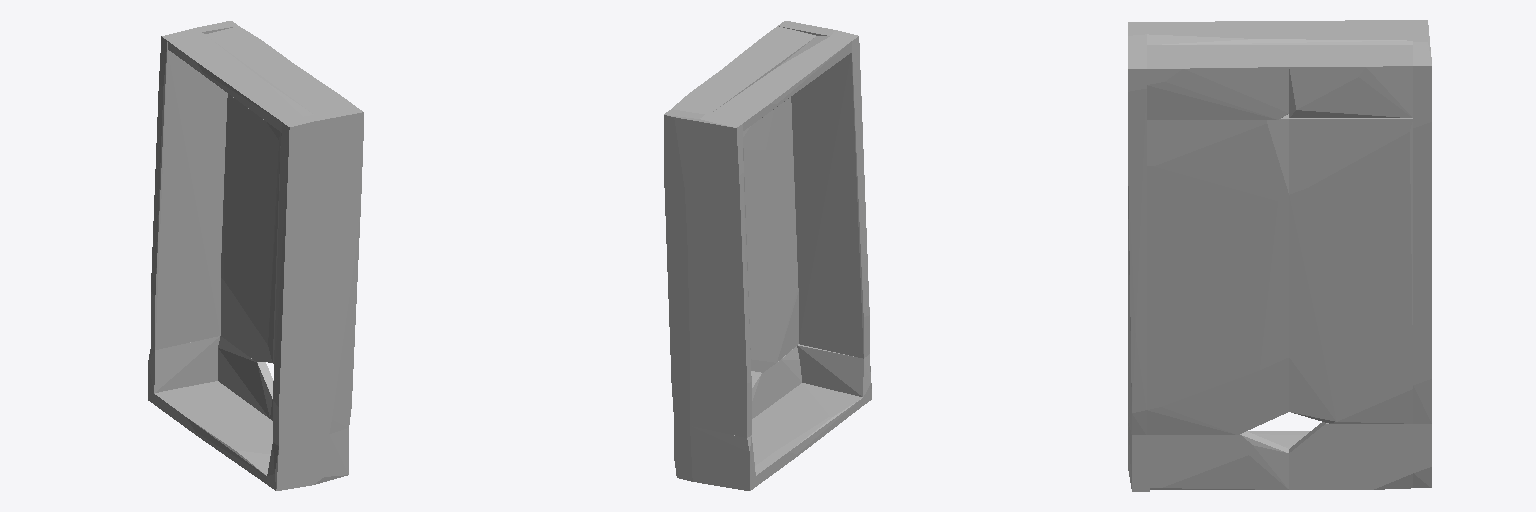
The robot description file, URDF, robot "root":
<robot name="root">
  <link name="link_thingiverse~box_with_crescent_hole_426326_convex_piece_0">
    <inertial>
      <origin rpy="0 0 0" xyz="0 0 0"/>
      <mass value="4.60E-03"/>
      <inertia ixx="2.26E-05" ixy="1.14E-06" ixz="1.92E-06" iyy="1.71E-05" iyz="9.87E-06" izz="6.35E-06"/>
    </inertial>
    <visual>
      <origin rpy="0 0 0" xyz="0 0 0"/>
      <geometry>
        <mesh filename="thingiverse~box_with_crescent_hole_426326_convex_piece_0.obj" scale="1.0000E+00 1.0000E+00 1.0000E+00"/>
      </geometry>
      <material name="">
        <color rgba="7.50E-01 7.50E-01 7.50E-01 1"/>
      </material>
    </visual>
    <collision>
      <origin rpy="0 0 0" xyz="0 0 0"/>
      <geometry>
        <mesh filename="thingiverse~box_with_crescent_hole_426326_convex_piece_0.obj" scale="1.0000E+00 1.0000E+00 1.0000E+00"/>
      </geometry>
    </collision>
  </link>
  <link name="link_thingiverse~box_with_crescent_hole_426326_convex_piece_1">
    <inertial>
      <origin rpy="0 0 0" xyz="0 0 0"/>
      <mass value="2.74E-02"/>
      <inertia ixx="6.07E-05" ixy="4.39E-06" ixz="7.09E-07" iyy="2.68E-05" iyz="-1.40E-06" izz="3.81E-05"/>
    </inertial>
    <visual>
      <origin rpy="0 0 0" xyz="0 0 0"/>
      <geometry>
        <mesh filename="thingiverse~box_with_crescent_hole_426326_convex_piece_1.obj" scale="1.0000E+00 1.0000E+00 1.0000E+00"/>
      </geometry>
      <material name="">
        <color rgba="7.50E-01 7.50E-01 7.50E-01 1"/>
      </material>
    </visual>
    <collision>
      <origin rpy="0 0 0" xyz="0 0 0"/>
      <geometry>
        <mesh filename="thingiverse~box_with_crescent_hole_426326_convex_piece_1.obj" scale="1.0000E+00 1.0000E+00 1.0000E+00"/>
      </geometry>
    </collision>
  </link>
  <joint name="link_thingiverse~box_with_crescent_hole_426326_convex_piece_1_joint" type="fixed">
    <origin rpy="0 0 0" xyz="0 0 0"/>
    <parent link="link_thingiverse~box_with_crescent_hole_426326_convex_piece_0"/>
    <child link="link_thingiverse~box_with_crescent_hole_426326_convex_piece_1"/>
  </joint>
  <link name="link_thingiverse~box_with_crescent_hole_426326_convex_piece_2">
    <inertial>
      <origin rpy="0 0 0" xyz="0 0 0"/>
      <mass value="4.33E-03"/>
      <inertia ixx="2.05E-05" ixy="-1.12E-06" ixz="1.85E-06" iyy="1.54E-05" iyz="-9.02E-06" izz="5.95E-06"/>
    </inertial>
    <visual>
      <origin rpy="0 0 0" xyz="0 0 0"/>
      <geometry>
        <mesh filename="thingiverse~box_with_crescent_hole_426326_convex_piece_2.obj" scale="1.0000E+00 1.0000E+00 1.0000E+00"/>
      </geometry>
      <material name="">
        <color rgba="7.50E-01 7.50E-01 7.50E-01 1"/>
      </material>
    </visual>
    <collision>
      <origin rpy="0 0 0" xyz="0 0 0"/>
      <geometry>
        <mesh filename="thingiverse~box_with_crescent_hole_426326_convex_piece_2.obj" scale="1.0000E+00 1.0000E+00 1.0000E+00"/>
      </geometry>
    </collision>
  </link>
  <joint name="link_thingiverse~box_with_crescent_hole_426326_convex_piece_2_joint" type="fixed">
    <origin rpy="0 0 0" xyz="0 0 0"/>
    <parent link="link_thingiverse~box_with_crescent_hole_426326_convex_piece_1"/>
    <child link="link_thingiverse~box_with_crescent_hole_426326_convex_piece_2"/>
  </joint>
  <link name="link_thingiverse~box_with_crescent_hole_426326_convex_piece_3">
    <inertial>
      <origin rpy="0 0 0" xyz="0 0 0"/>
      <mass value="2.45E-02"/>
      <inertia ixx="5.22E-05" ixy="-4.36E-06" ixz="3.11E-07" iyy="2.30E-05" iyz="2.12E-06" izz="3.31E-05"/>
    </inertial>
    <visual>
      <origin rpy="0 0 0" xyz="0 0 0"/>
      <geometry>
        <mesh filename="thingiverse~box_with_crescent_hole_426326_convex_piece_3.obj" scale="1.0000E+00 1.0000E+00 1.0000E+00"/>
      </geometry>
      <material name="">
        <color rgba="7.50E-01 7.50E-01 7.50E-01 1"/>
      </material>
    </visual>
    <collision>
      <origin rpy="0 0 0" xyz="0 0 0"/>
      <geometry>
        <mesh filename="thingiverse~box_with_crescent_hole_426326_convex_piece_3.obj" scale="1.0000E+00 1.0000E+00 1.0000E+00"/>
      </geometry>
    </collision>
  </link>
  <joint name="link_thingiverse~box_with_crescent_hole_426326_convex_piece_3_joint" type="fixed">
    <origin rpy="0 0 0" xyz="0 0 0"/>
    <parent link="link_thingiverse~box_with_crescent_hole_426326_convex_piece_2"/>
    <child link="link_thingiverse~box_with_crescent_hole_426326_convex_piece_3"/>
  </joint>
  <link name="link_thingiverse~box_with_crescent_hole_426326_convex_piece_4">
    <inertial>
      <origin rpy="0 0 0" xyz="0 0 0"/>
      <mass value="1.26E-02"/>
      <inertia ixx="5.87E-05" ixy="-1.59E-07" ixz="8.04E-06" iyy="5.58E-05" iyz="-6.51E-07" izz="6.22E-06"/>
    </inertial>
    <visual>
      <origin rpy="0 0 0" xyz="0 0 0"/>
      <geometry>
        <mesh filename="thingiverse~box_with_crescent_hole_426326_convex_piece_4.obj" scale="1.0000E+00 1.0000E+00 1.0000E+00"/>
      </geometry>
      <material name="">
        <color rgba="7.50E-01 7.50E-01 7.50E-01 1"/>
      </material>
    </visual>
    <collision>
      <origin rpy="0 0 0" xyz="0 0 0"/>
      <geometry>
        <mesh filename="thingiverse~box_with_crescent_hole_426326_convex_piece_4.obj" scale="1.0000E+00 1.0000E+00 1.0000E+00"/>
      </geometry>
    </collision>
  </link>
  <joint name="link_thingiverse~box_with_crescent_hole_426326_convex_piece_4_joint" type="fixed">
    <origin rpy="0 0 0" xyz="0 0 0"/>
    <parent link="link_thingiverse~box_with_crescent_hole_426326_convex_piece_3"/>
    <child link="link_thingiverse~box_with_crescent_hole_426326_convex_piece_4"/>
  </joint>
  <link name="link_thingiverse~box_with_crescent_hole_426326_convex_piece_5">
    <inertial>
      <origin rpy="0 0 0" xyz="0 0 0"/>
      <mass value="4.72E-03"/>
      <inertia ixx="1.91E-05" ixy="-2.78E-07" ixz="-9.89E-07" iyy="1.75E-05" iyz="4.73E-06" izz="1.80E-06"/>
    </inertial>
    <visual>
      <origin rpy="0 0 0" xyz="0 0 0"/>
      <geometry>
        <mesh filename="thingiverse~box_with_crescent_hole_426326_convex_piece_5.obj" scale="1.0000E+00 1.0000E+00 1.0000E+00"/>
      </geometry>
      <material name="">
        <color rgba="7.50E-01 7.50E-01 7.50E-01 1"/>
      </material>
    </visual>
    <collision>
      <origin rpy="0 0 0" xyz="0 0 0"/>
      <geometry>
        <mesh filename="thingiverse~box_with_crescent_hole_426326_convex_piece_5.obj" scale="1.0000E+00 1.0000E+00 1.0000E+00"/>
      </geometry>
    </collision>
  </link>
  <joint name="link_thingiverse~box_with_crescent_hole_426326_convex_piece_5_joint" type="fixed">
    <origin rpy="0 0 0" xyz="0 0 0"/>
    <parent link="link_thingiverse~box_with_crescent_hole_426326_convex_piece_4"/>
    <child link="link_thingiverse~box_with_crescent_hole_426326_convex_piece_5"/>
  </joint>
  <link name="link_thingiverse~box_with_crescent_hole_426326_convex_piece_6">
    <inertial>
      <origin rpy="0 0 0" xyz="0 0 0"/>
      <mass value="2.92E-02"/>
      <inertia ixx="3.05E-05" ixy="-2.76E-06" ixz="-4.02E-07" iyy="2.09E-05" iyz="3.35E-06" izz="1.17E-05"/>
    </inertial>
    <visual>
      <origin rpy="0 0 0" xyz="0 0 0"/>
      <geometry>
        <mesh filename="thingiverse~box_with_crescent_hole_426326_convex_piece_6.obj" scale="1.0000E+00 1.0000E+00 1.0000E+00"/>
      </geometry>
      <material name="">
        <color rgba="7.50E-01 7.50E-01 7.50E-01 1"/>
      </material>
    </visual>
    <collision>
      <origin rpy="0 0 0" xyz="0 0 0"/>
      <geometry>
        <mesh filename="thingiverse~box_with_crescent_hole_426326_convex_piece_6.obj" scale="1.0000E+00 1.0000E+00 1.0000E+00"/>
      </geometry>
    </collision>
  </link>
  <joint name="link_thingiverse~box_with_crescent_hole_426326_convex_piece_6_joint" type="fixed">
    <origin rpy="0 0 0" xyz="0 0 0"/>
    <parent link="link_thingiverse~box_with_crescent_hole_426326_convex_piece_5"/>
    <child link="link_thingiverse~box_with_crescent_hole_426326_convex_piece_6"/>
  </joint>
  <link name="link_thingiverse~box_with_crescent_hole_426326_convex_piece_7">
    <inertial>
      <origin rpy="0 0 0" xyz="0 0 0"/>
      <mass value="1.29E-02"/>
      <inertia ixx="3.12E-05" ixy="6.33E-07" ixz="1.65E-06" iyy="2.64E-05" iyz="1.02E-05" izz="5.29E-06"/>
    </inertial>
    <visual>
      <origin rpy="0 0 0" xyz="0 0 0"/>
      <geometry>
        <mesh filename="thingiverse~box_with_crescent_hole_426326_convex_piece_7.obj" scale="1.0000E+00 1.0000E+00 1.0000E+00"/>
      </geometry>
      <material name="">
        <color rgba="7.50E-01 7.50E-01 7.50E-01 1"/>
      </material>
    </visual>
    <collision>
      <origin rpy="0 0 0" xyz="0 0 0"/>
      <geometry>
        <mesh filename="thingiverse~box_with_crescent_hole_426326_convex_piece_7.obj" scale="1.0000E+00 1.0000E+00 1.0000E+00"/>
      </geometry>
    </collision>
  </link>
  <joint name="link_thingiverse~box_with_crescent_hole_426326_convex_piece_7_joint" type="fixed">
    <origin rpy="0 0 0" xyz="0 0 0"/>
    <parent link="link_thingiverse~box_with_crescent_hole_426326_convex_piece_6"/>
    <child link="link_thingiverse~box_with_crescent_hole_426326_convex_piece_7"/>
  </joint>
  <link name="link_thingiverse~box_with_crescent_hole_426326_convex_piece_8">
    <inertial>
      <origin rpy="0 0 0" xyz="0 0 0"/>
      <mass value="4.25E-03"/>
      <inertia ixx="1.69E-05" ixy="2.38E-07" ixz="-7.56E-07" iyy="1.51E-05" iyz="-4.69E-06" izz="1.85E-06"/>
    </inertial>
    <visual>
      <origin rpy="0 0 0" xyz="0 0 0"/>
      <geometry>
        <mesh filename="thingiverse~box_with_crescent_hole_426326_convex_piece_8.obj" scale="1.0000E+00 1.0000E+00 1.0000E+00"/>
      </geometry>
      <material name="">
        <color rgba="7.50E-01 7.50E-01 7.50E-01 1"/>
      </material>
    </visual>
    <collision>
      <origin rpy="0 0 0" xyz="0 0 0"/>
      <geometry>
        <mesh filename="thingiverse~box_with_crescent_hole_426326_convex_piece_8.obj" scale="1.0000E+00 1.0000E+00 1.0000E+00"/>
      </geometry>
    </collision>
  </link>
  <joint name="link_thingiverse~box_with_crescent_hole_426326_convex_piece_8_joint" type="fixed">
    <origin rpy="0 0 0" xyz="0 0 0"/>
    <parent link="link_thingiverse~box_with_crescent_hole_426326_convex_piece_7"/>
    <child link="link_thingiverse~box_with_crescent_hole_426326_convex_piece_8"/>
  </joint>
  <link name="link_thingiverse~box_with_crescent_hole_426326_convex_piece_9">
    <inertial>
      <origin rpy="0 0 0" xyz="0 0 0"/>
      <mass value="2.41E-02"/>
      <inertia ixx="2.47E-05" ixy="2.22E-06" ixz="-2.06E-07" iyy="1.59E-05" iyz="-2.50E-06" izz="1.03E-05"/>
    </inertial>
    <visual>
      <origin rpy="0 0 0" xyz="0 0 0"/>
      <geometry>
        <mesh filename="thingiverse~box_with_crescent_hole_426326_convex_piece_9.obj" scale="1.0000E+00 1.0000E+00 1.0000E+00"/>
      </geometry>
      <material name="">
        <color rgba="7.50E-01 7.50E-01 7.50E-01 1"/>
      </material>
    </visual>
    <collision>
      <origin rpy="0 0 0" xyz="0 0 0"/>
      <geometry>
        <mesh filename="thingiverse~box_with_crescent_hole_426326_convex_piece_9.obj" scale="1.0000E+00 1.0000E+00 1.0000E+00"/>
      </geometry>
    </collision>
  </link>
  <joint name="link_thingiverse~box_with_crescent_hole_426326_convex_piece_9_joint" type="fixed">
    <origin rpy="0 0 0" xyz="0 0 0"/>
    <parent link="link_thingiverse~box_with_crescent_hole_426326_convex_piece_8"/>
    <child link="link_thingiverse~box_with_crescent_hole_426326_convex_piece_9"/>
  </joint>
  <link name="link_thingiverse~box_with_crescent_hole_426326_convex_piece_10">
    <inertial>
      <origin rpy="0 0 0" xyz="0 0 0"/>
      <mass value="6.87E-03"/>
      <inertia ixx="2.05E-05" ixy="-2.71E-08" ixz="-3.47E-06" iyy="1.87E-05" iyz="9.49E-08" izz="3.32E-06"/>
    </inertial>
    <visual>
      <origin rpy="0 0 0" xyz="0 0 0"/>
      <geometry>
        <mesh filename="thingiverse~box_with_crescent_hole_426326_convex_piece_10.obj" scale="1.0000E+00 1.0000E+00 1.0000E+00"/>
      </geometry>
      <material name="">
        <color rgba="7.50E-01 7.50E-01 7.50E-01 1"/>
      </material>
    </visual>
    <collision>
      <origin rpy="0 0 0" xyz="0 0 0"/>
      <geometry>
        <mesh filename="thingiverse~box_with_crescent_hole_426326_convex_piece_10.obj" scale="1.0000E+00 1.0000E+00 1.0000E+00"/>
      </geometry>
    </collision>
  </link>
  <joint name="link_thingiverse~box_with_crescent_hole_426326_convex_piece_10_joint" type="fixed">
    <origin rpy="0 0 0" xyz="0 0 0"/>
    <parent link="link_thingiverse~box_with_crescent_hole_426326_convex_piece_9"/>
    <child link="link_thingiverse~box_with_crescent_hole_426326_convex_piece_10"/>
  </joint>
  <link name="link_thingiverse~box_with_crescent_hole_426326_convex_piece_11">
    <inertial>
      <origin rpy="0 0 0" xyz="0 0 0"/>
      <mass value="1.51E-02"/>
      <inertia ixx="3.65E-05" ixy="-8.42E-07" ixz="2.30E-06" iyy="3.13E-05" iyz="-1.10E-05" izz="5.91E-06"/>
    </inertial>
    <visual>
      <origin rpy="0 0 0" xyz="0 0 0"/>
      <geometry>
        <mesh filename="thingiverse~box_with_crescent_hole_426326_convex_piece_11.obj" scale="1.0000E+00 1.0000E+00 1.0000E+00"/>
      </geometry>
      <material name="">
        <color rgba="7.50E-01 7.50E-01 7.50E-01 1"/>
      </material>
    </visual>
    <collision>
      <origin rpy="0 0 0" xyz="0 0 0"/>
      <geometry>
        <mesh filename="thingiverse~box_with_crescent_hole_426326_convex_piece_11.obj" scale="1.0000E+00 1.0000E+00 1.0000E+00"/>
      </geometry>
    </collision>
  </link>
  <joint name="link_thingiverse~box_with_crescent_hole_426326_convex_piece_11_joint" type="fixed">
    <origin rpy="0 0 0" xyz="0 0 0"/>
    <parent link="link_thingiverse~box_with_crescent_hole_426326_convex_piece_10"/>
    <child link="link_thingiverse~box_with_crescent_hole_426326_convex_piece_11"/>
  </joint>
</robot>

--- Facts derived from the render (not from the file) ---
Views: 3 orthographic renders of the robot side by side, from view 1: azimuth 30°, elevation 25°; view 2: azimuth 150°, elevation 25°; view 3: azimuth 270°, elevation 25°.
Robot: root — 12 links, 11 joints (11 fixed); root link link_thingiverse~box_with_crescent_hole_426326_convex_piece_0; default pose: every joint at zero.
Visible links, largest first — view 1: link_thingiverse~box_with_crescent_hole_426326_convex_piece_1, link_thingiverse~box_with_crescent_hole_426326_convex_piece_3, link_thingiverse~box_with_crescent_hole_426326_convex_piece_9, link_thingiverse~box_with_crescent_hole_426326_convex_piece_4, link_thingiverse~box_with_crescent_hole_426326_convex_piece_10, link_thingiverse~box_with_crescent_hole_426326_convex_piece_0, link_thingiverse~box_with_crescent_hole_426326_convex_piece_2, link_thingiverse~box_with_crescent_hole_426326_convex_piece_8, link_thingiverse~box_with_crescent_hole_426326_convex_piece_11, link_thingiverse~box_with_crescent_hole_426326_convex_piece_7; view 2: link_thingiverse~box_with_crescent_hole_426326_convex_piece_3, link_thingiverse~box_with_crescent_hole_426326_convex_piece_1, link_thingiverse~box_with_crescent_hole_426326_convex_piece_6, link_thingiverse~box_with_crescent_hole_426326_convex_piece_4, link_thingiverse~box_with_crescent_hole_426326_convex_piece_10, link_thingiverse~box_with_crescent_hole_426326_convex_piece_2, link_thingiverse~box_with_crescent_hole_426326_convex_piece_0, link_thingiverse~box_with_crescent_hole_426326_convex_piece_11, link_thingiverse~box_with_crescent_hole_426326_convex_piece_5, link_thingiverse~box_with_crescent_hole_426326_convex_piece_7; view 3: link_thingiverse~box_with_crescent_hole_426326_convex_piece_6, link_thingiverse~box_with_crescent_hole_426326_convex_piece_9, link_thingiverse~box_with_crescent_hole_426326_convex_piece_11, link_thingiverse~box_with_crescent_hole_426326_convex_piece_7, link_thingiverse~box_with_crescent_hole_426326_convex_piece_1, link_thingiverse~box_with_crescent_hole_426326_convex_piece_8, link_thingiverse~box_with_crescent_hole_426326_convex_piece_3, link_thingiverse~box_with_crescent_hole_426326_convex_piece_5, link_thingiverse~box_with_crescent_hole_426326_convex_piece_10, link_thingiverse~box_with_crescent_hole_426326_convex_piece_0, link_thingiverse~box_with_crescent_hole_426326_convex_piece_2, link_thingiverse~box_with_crescent_hole_426326_convex_piece_4.
Link boxes in pixels (x1,y1,x2,y2): link_thingiverse~box_with_crescent_hole_426326_convex_piece_1: (273, 107, 363, 445); link_thingiverse~box_with_crescent_hole_426326_convex_piece_3: (151, 21, 237, 349); link_thingiverse~box_with_crescent_hole_426326_convex_piece_9: (221, 94, 280, 362); link_thingiverse~box_with_crescent_hole_426326_convex_piece_4: (154, 381, 272, 483); link_thingiverse~box_with_crescent_hole_426326_convex_piece_10: (168, 32, 313, 132); link_thingiverse~box_with_crescent_hole_426326_convex_piece_0: (267, 428, 348, 490); link_thingiverse~box_with_crescent_hole_426326_convex_piece_2: (148, 336, 219, 403); link_thingiverse~box_with_crescent_hole_426326_convex_piece_8: (218, 336, 273, 418); link_thingiverse~box_with_crescent_hole_426326_convex_piece_11: (257, 64, 355, 114); link_thingiverse~box_with_crescent_hole_426326_convex_piece_7: (205, 26, 293, 71); link_thingiverse~box_with_crescent_hole_426326_convex_piece_3: (664, 109, 751, 437); link_thingiverse~box_with_crescent_hole_426326_convex_piece_1: (778, 21, 869, 358); link_thingiverse~box_with_crescent_hole_426326_convex_piece_6: (743, 97, 798, 372); link_thingiverse~box_with_crescent_hole_426326_convex_piece_4: (752, 383, 862, 486); link_thingiverse~box_with_crescent_hole_426326_convex_piece_10: (709, 36, 851, 130); link_thingiverse~box_with_crescent_hole_426326_convex_piece_2: (674, 422, 755, 490); link_thingiverse~box_with_crescent_hole_426326_convex_piece_0: (797, 344, 871, 405); link_thingiverse~box_with_crescent_hole_426326_convex_piece_11: (721, 26, 815, 78); link_thingiverse~box_with_crescent_hole_426326_convex_piece_5: (751, 346, 801, 418); link_thingiverse~box_with_crescent_hole_426326_convex_piece_7: (672, 70, 756, 114); link_thingiverse~box_with_crescent_hole_426326_convex_piece_6: (1147, 114, 1288, 434); link_thingiverse~box_with_crescent_hole_426326_convex_piece_9: (1289, 118, 1412, 423); link_thingiverse~box_with_crescent_hole_426326_convex_piece_11: (1147, 45, 1288, 119); link_thingiverse~box_with_crescent_hole_426326_convex_piece_7: (1289, 45, 1412, 117); link_thingiverse~box_with_crescent_hole_426326_convex_piece_1: (1128, 22, 1146, 434); link_thingiverse~box_with_crescent_hole_426326_convex_piece_8: (1289, 422, 1412, 489); link_thingiverse~box_with_crescent_hole_426326_convex_piece_3: (1413, 20, 1431, 423); link_thingiverse~box_with_crescent_hole_426326_convex_piece_5: (1150, 431, 1288, 489); link_thingiverse~box_with_crescent_hole_426326_convex_piece_10: (1147, 20, 1412, 44); link_thingiverse~box_with_crescent_hole_426326_convex_piece_0: (1128, 423, 1149, 491); link_thingiverse~box_with_crescent_hole_426326_convex_piece_2: (1413, 424, 1431, 487); link_thingiverse~box_with_crescent_hole_426326_convex_piece_4: (1248, 431, 1309, 448).
Bounding box of the posed robot: 0.0313 × 0.0765 × 0.1208 m (x, y, z).
Meshes: 12 distinct files referenced, 12 mesh visuals loaded (12 OBJ).
